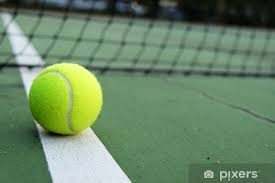tennis_ball: (30, 63, 103, 135)
